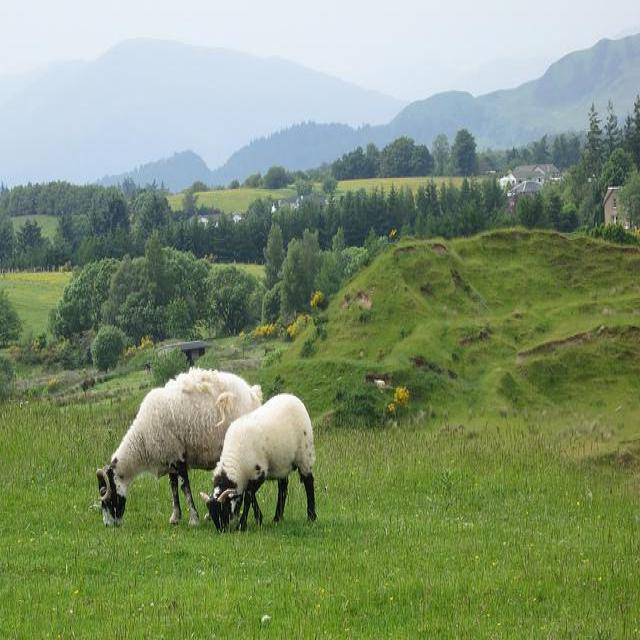Sheep: (97, 366, 265, 531), (199, 393, 315, 533)
